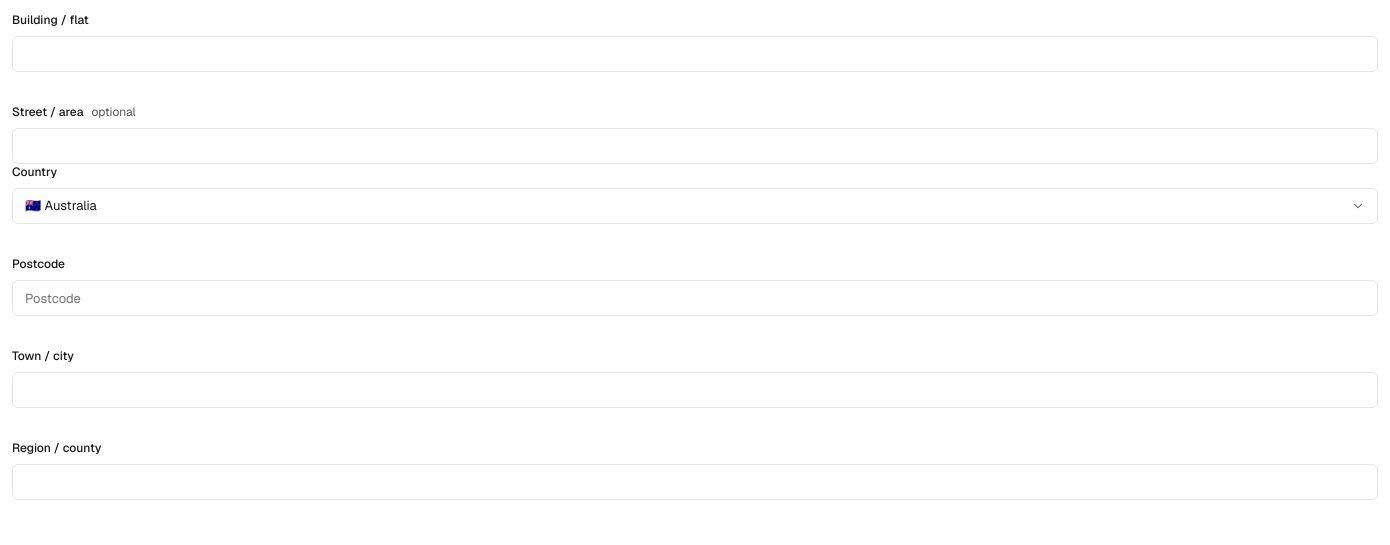
Test: AddressFields, a postcode with no single town › fills the first locality and says how many the code covers
This screenshot has width=1390, height=545.
Type "2155" into the field labelled "Postcode" at (695, 298), box [12,280,1378,316]
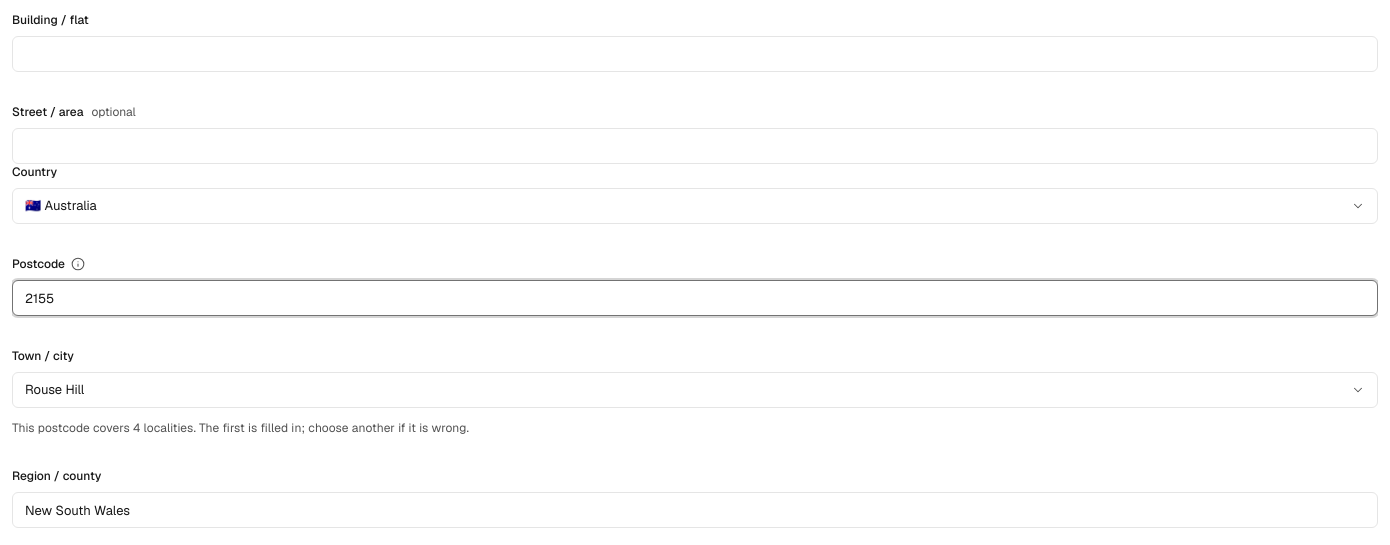
Check: the dropdown labelled "Town / city" holds "Rouse Hill", box [13,380,1351,400]
Check: the text "covers 4 localities" is shown 2 times
Check: the field labelled "Region / county" holds "New South Wales", box [12,492,1378,528]
